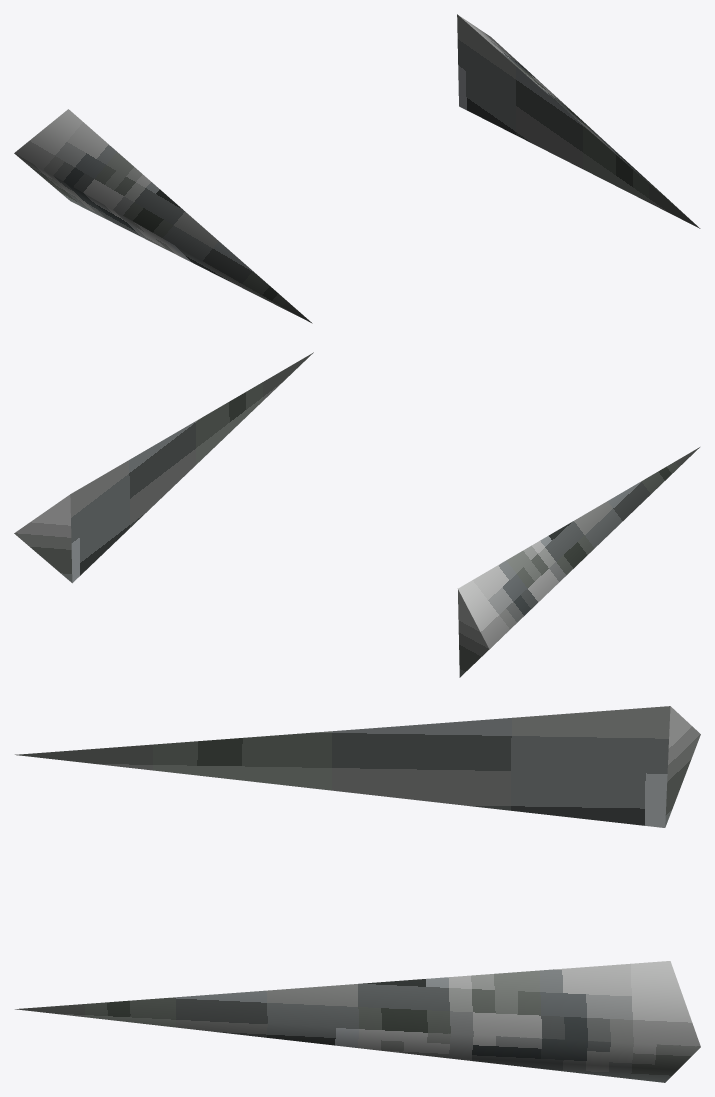
Rendered from kse_firespray_weapon1_s01_l3.fbx.
3 views of the same model, one above another, from view 1: azimuth 30°, elevation 25°; view 2: azimuth 150°, elevation 25°; view 3: azimuth 270°, elevation 25° (orthographic). The views are drawn at different scales.
Parts seen in each view (by area): view 1: mesh_node; view 2: mesh_node; view 3: mesh_node.
Part boxes in pixels (left/top/right/bottom): mesh_node: left=14, top=14, right=700, bottom=323; mesh_node: left=14, top=352, right=699, bottom=677; mesh_node: left=15, top=706, right=700, bottom=1082.
Bounding box in the file's own units: 4.15 × 0.756 × 3.86.
1 material, 1 textured.
